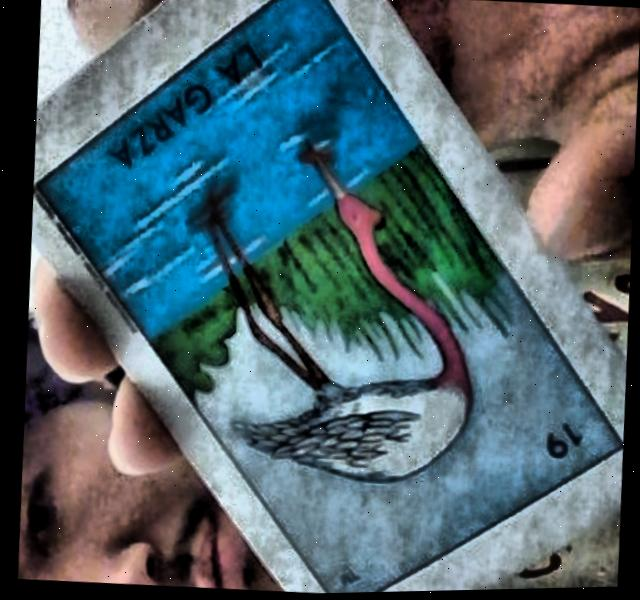La Garza: (37, 0, 614, 595)
